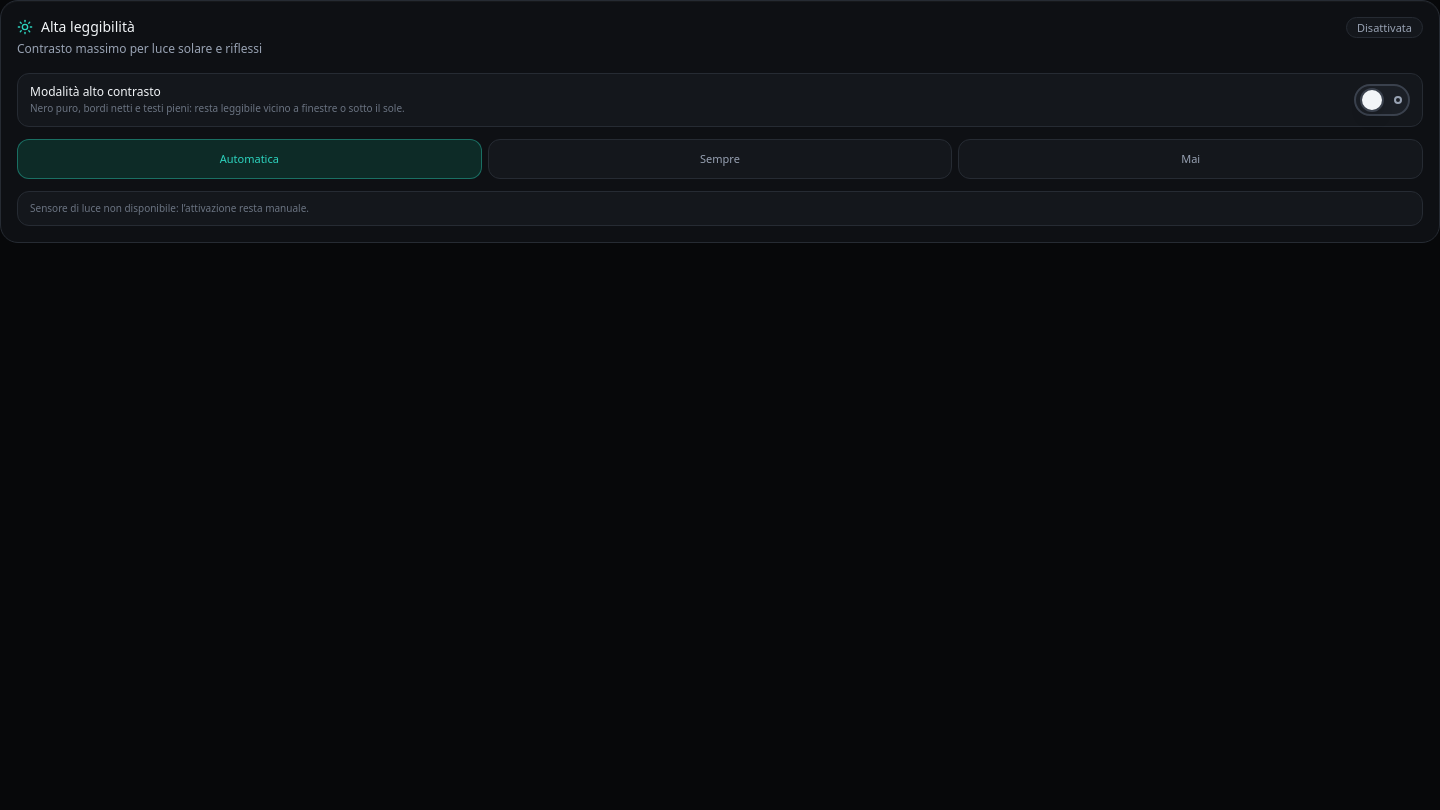
it: SunlightModeCard › accende la modalità con lo switch e la salva come scelta manuale
The image size is (1440, 810).
expect the text "Disattivata" is shown: met, box [1346, 17, 1423, 38]
expect the text with test id "contrast-reason" shows "Sensore di luce non disponibile": met, box [30, 201, 309, 215]
Click the switch named "Modalità alto contrasto" at (1382, 100), box [1354, 84, 1410, 116]
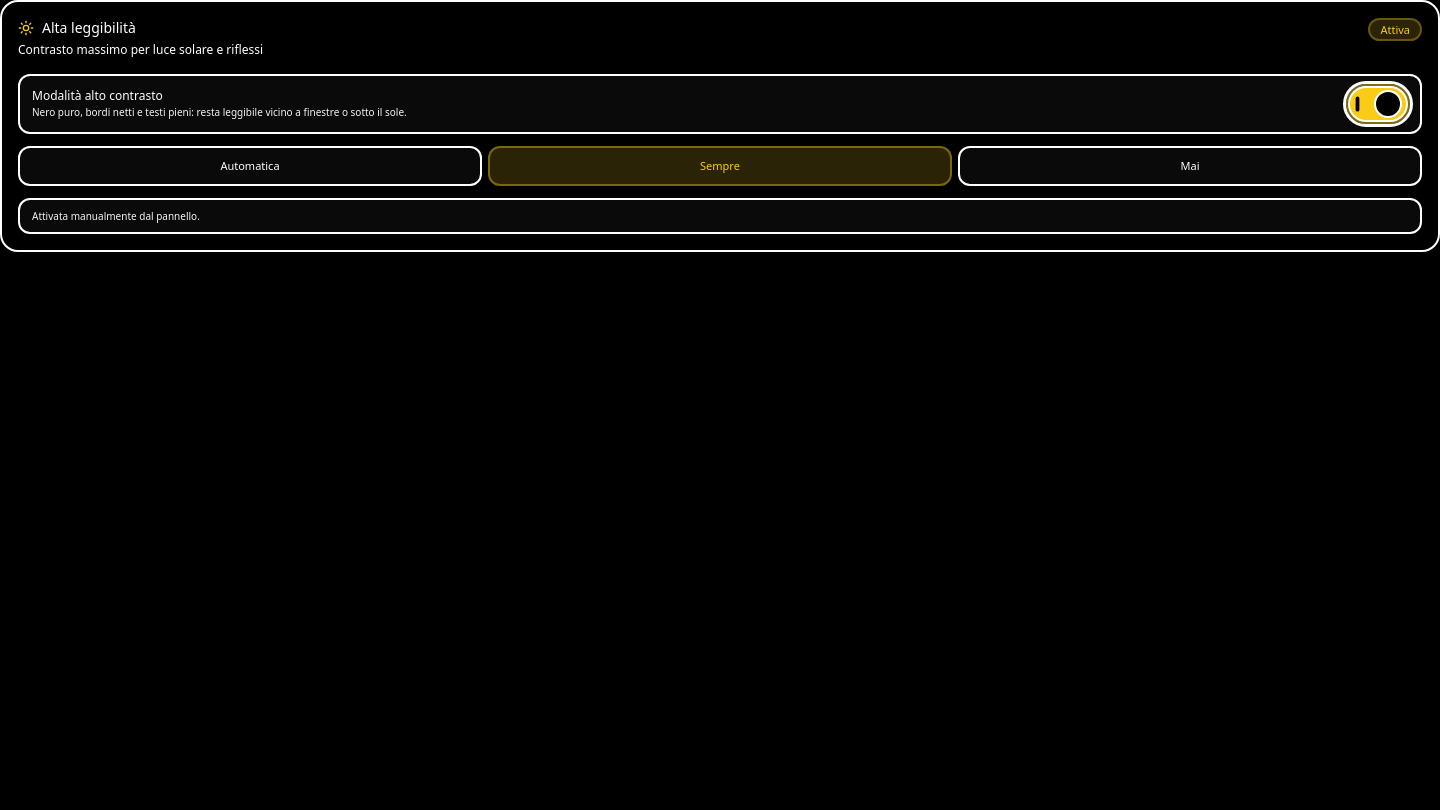
expect the text "Attiva" is shown: met, box [1368, 18, 1422, 41]
expect the text with test id "contrast-reason" shows "Attivata manualmente": met, box [32, 209, 200, 223]
